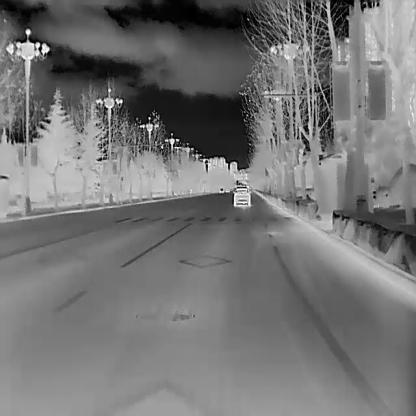car: (232, 185, 251, 206), (218, 187, 224, 193), (225, 187, 229, 192)
